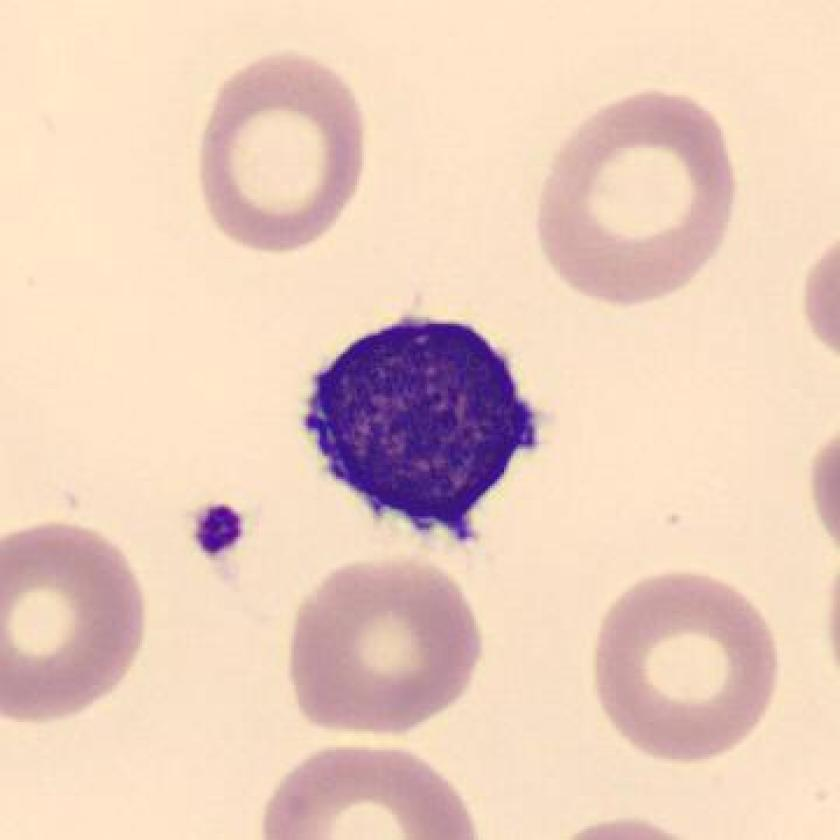lymphocyte: (288, 307, 559, 547)
